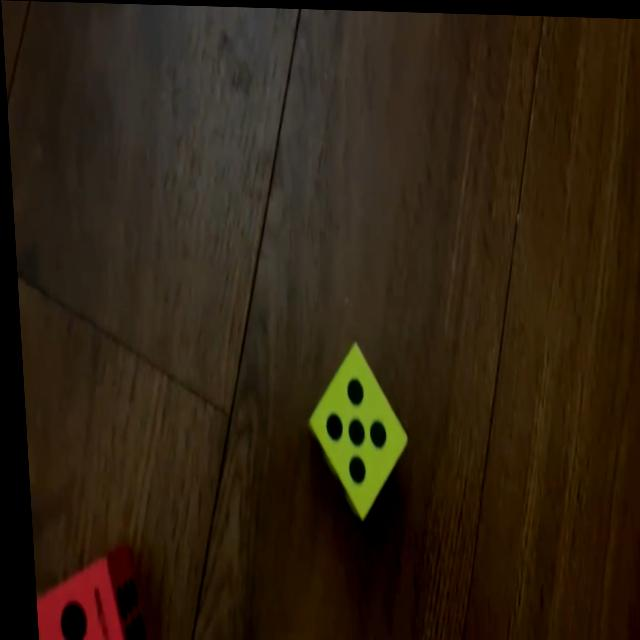red_block: (25, 544, 139, 640)
